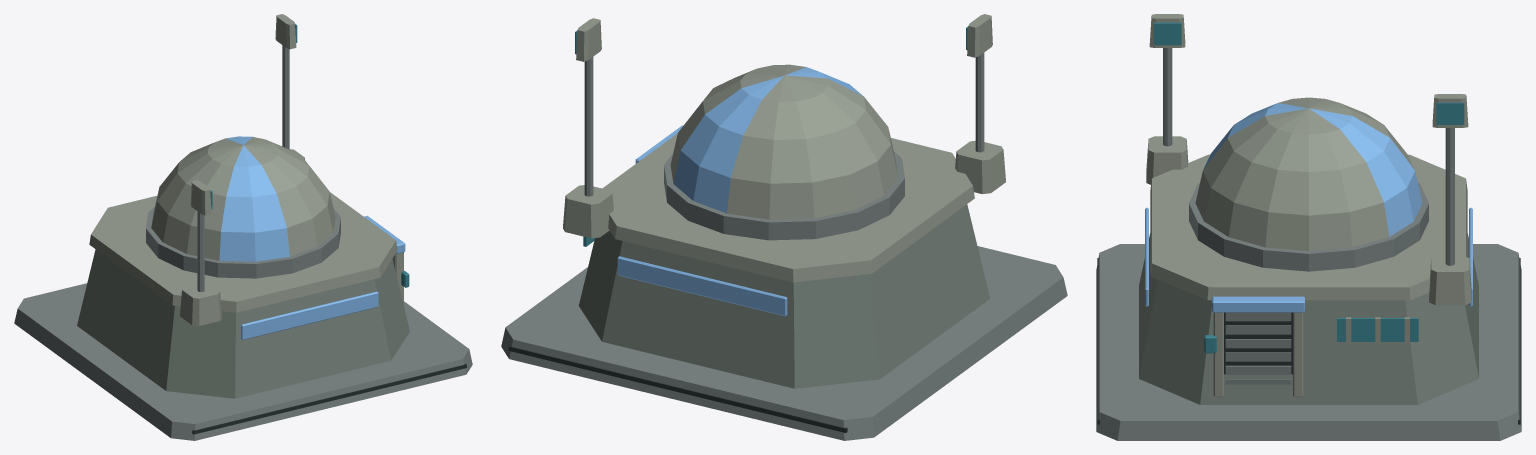
File: strategy_center.glb
3 views of the same model, side by side, from view 1: azimuth 30°, elevation 25°; view 2: azimuth 150°, elevation 25°; view 3: azimuth 270°, elevation 25° (orthographic). The views are drawn at different scales.
Parts seen in each view (by area): view 1: strategy_center; view 2: strategy_center; view 3: strategy_center.
Part boxes in pixels (x1,y1,x2,y2): strategy_center: (14,14,472,440); strategy_center: (501,14,1067,440); strategy_center: (1096,14,1521,440).
Bounding box in the file's own units: 3.7 × 3.02 × 3.7.
